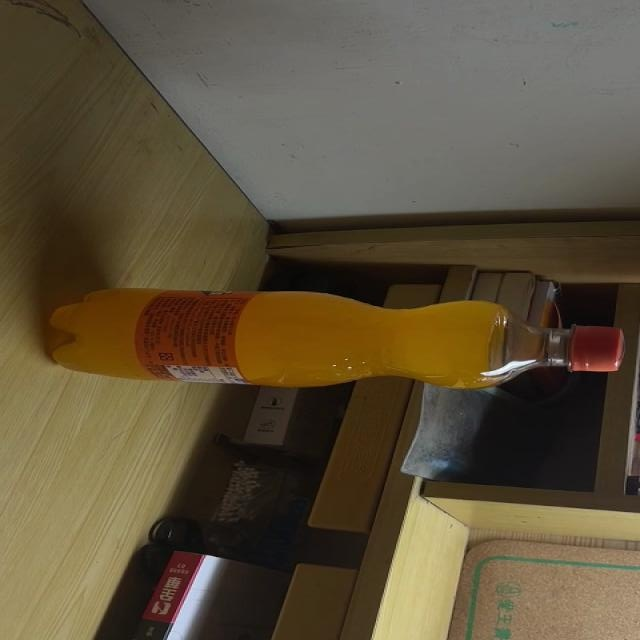Fanta: (45, 289, 622, 386)
